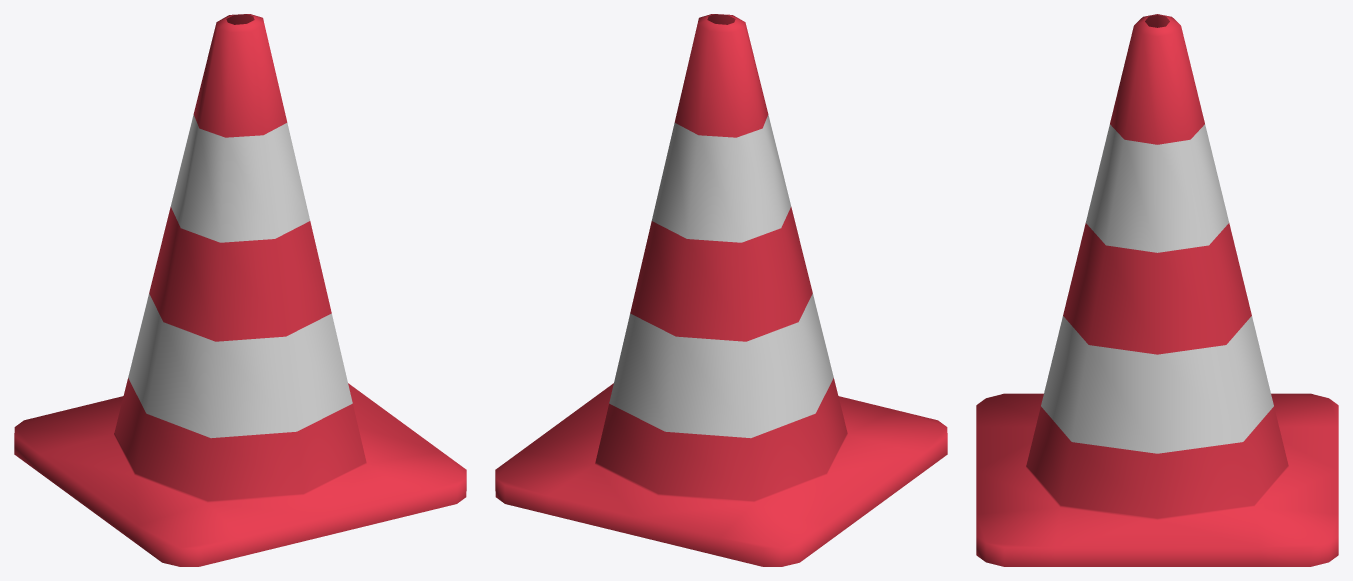
3 renders of one model, left to right at view 1: azimuth 30°, elevation 25°; view 2: azimuth 150°, elevation 25°; view 3: azimuth 270°, elevation 25°, orthographic. The views are drawn at different scales.
Visible parts, largest first — view 1: traffic_cone; view 2: traffic_cone; view 3: traffic_cone.
Part boxes in pixels (x1,y1,x2,y2): traffic_cone: [14, 14, 466, 566]; traffic_cone: [495, 14, 947, 566]; traffic_cone: [976, 14, 1338, 566].
Bounding box in the file's own units: 155 × 220 × 154.
